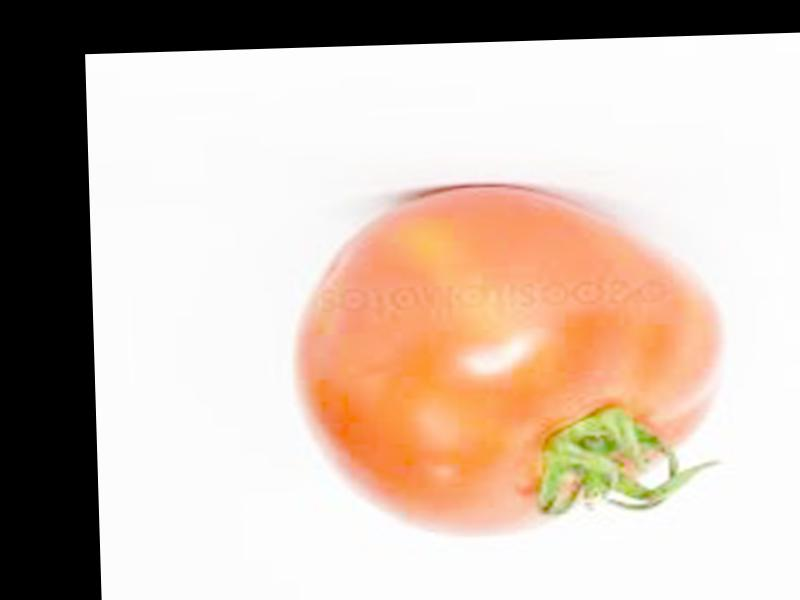Tomato: (290, 179, 728, 546)
